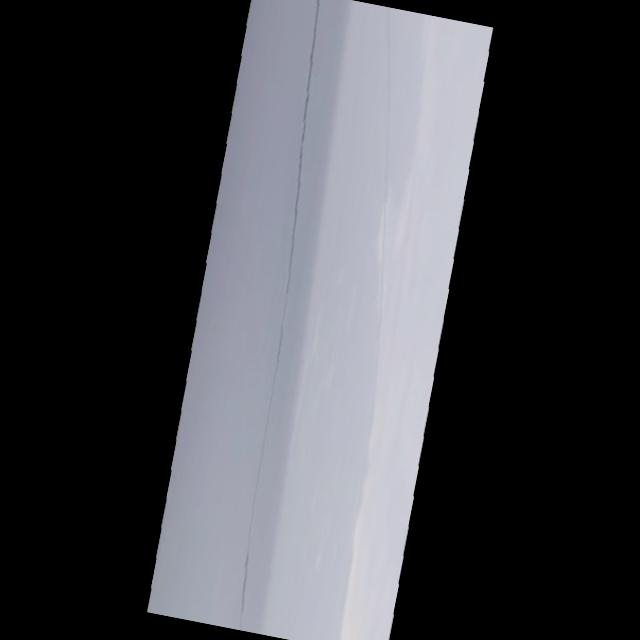crack: (182, 16, 358, 630)
